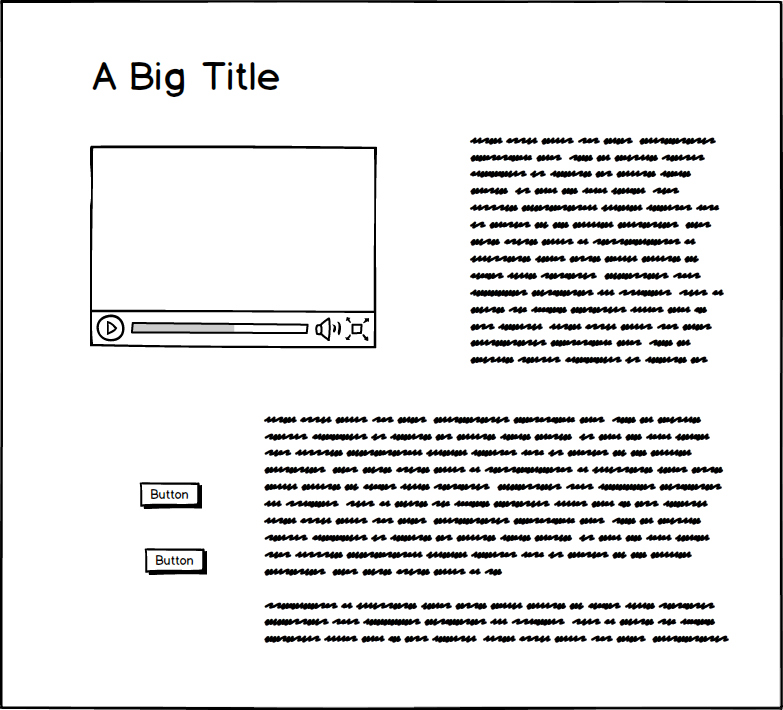button: (138, 543, 211, 582), (135, 476, 206, 513)
h1: (75, 50, 292, 99)
p: (259, 409, 741, 648), (462, 130, 735, 371)
video: (84, 139, 384, 354)
